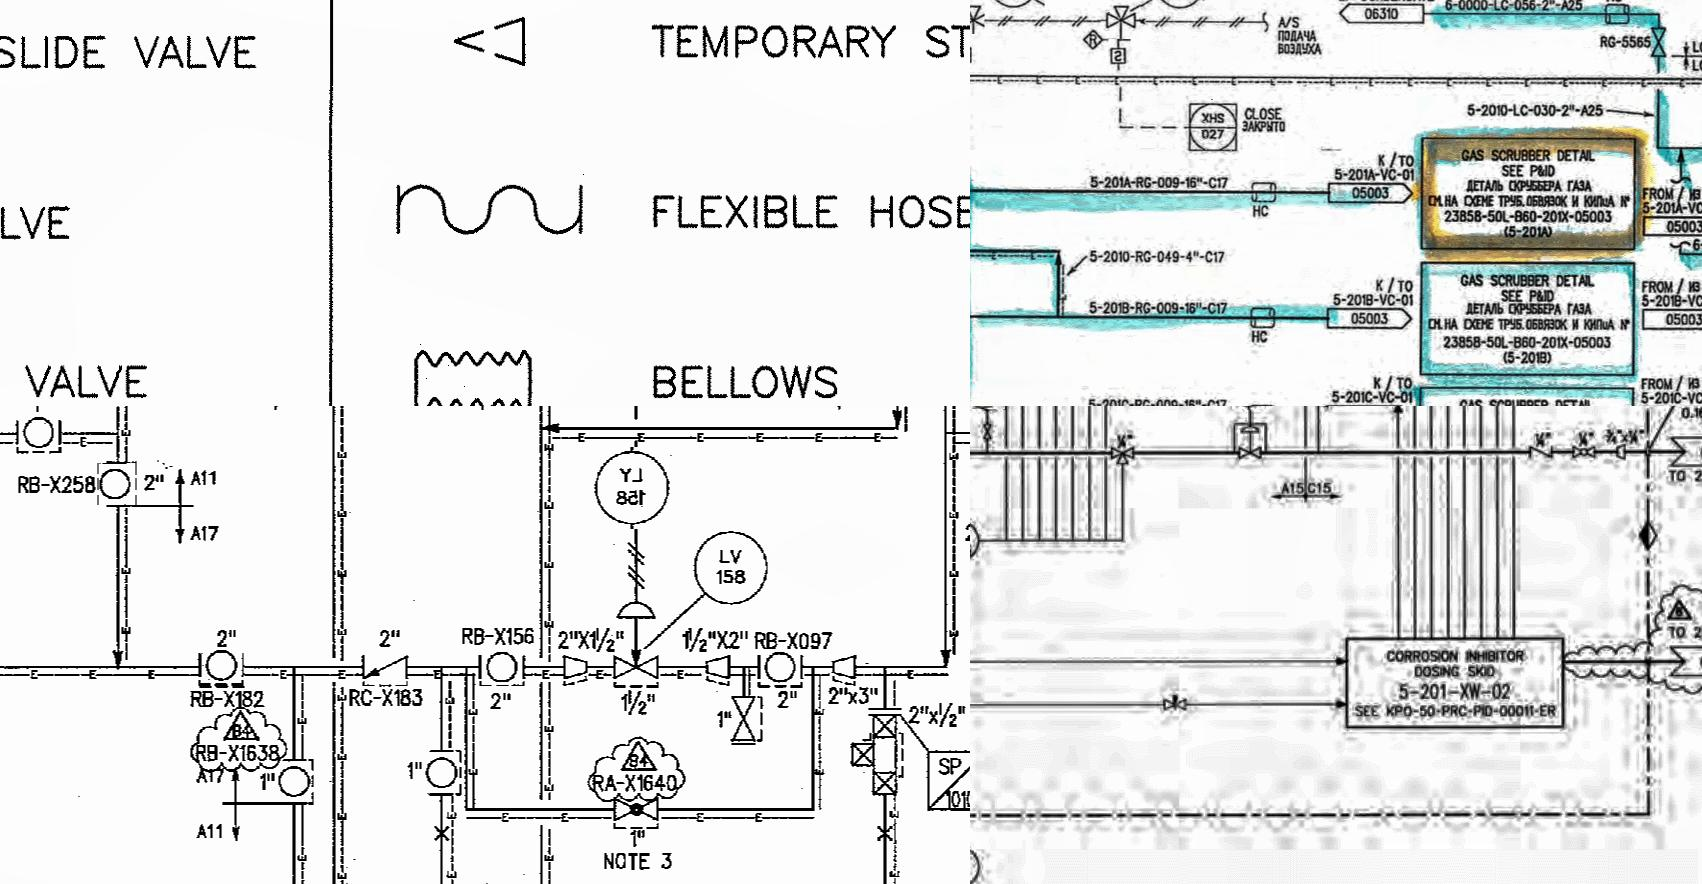2 WAY VALVE: (844, 711, 904, 802)
3 WAY GENERAL VALVE: (1100, 1, 1140, 35), (1105, 444, 1143, 470), (970, 0, 984, 34)
BELLOWS: (410, 342, 544, 407)
CONCENTRIC REDUCER: (702, 651, 737, 687), (830, 653, 861, 684), (559, 654, 591, 684), (1614, 441, 1629, 466)
DCS ACCESSIBLE: (1180, 99, 1244, 154)
DIAPHRAGM ACTUATED VALVE: (606, 600, 659, 688), (1235, 426, 1264, 464)
DUPLEX RECEPTACLE: (1598, 0, 1636, 28), (1247, 179, 1282, 208), (1247, 302, 1280, 332)
FIELD INSTRUMENT: (590, 447, 679, 529), (692, 526, 770, 610), (758, 645, 806, 689), (478, 648, 529, 689), (420, 752, 471, 794), (198, 648, 244, 687), (274, 758, 313, 803), (16, 414, 62, 450), (97, 463, 135, 504), (970, 516, 985, 564), (983, 0, 1043, 10), (1152, 0, 1204, 11), (970, 842, 984, 884)
FLEXIBLE HOSE: (389, 172, 590, 250)
GATE VALVE: (606, 786, 666, 831), (724, 696, 768, 741), (1648, 23, 1669, 62), (980, 420, 993, 441)
HARDWIRED INTERLOCK FIELD: (1078, 26, 1127, 50)
NEEDLE VALVE: (1158, 688, 1193, 718)
PIPE CONNECTION FLAG: (1664, 641, 1702, 679), (1668, 431, 1702, 470)
PLUG VALVE: (1570, 441, 1602, 463)
REVISION TRIANGLE: (622, 734, 657, 779), (220, 712, 261, 745), (1665, 597, 1693, 624)
SPECIAL PIPING ITEM: (922, 745, 970, 820)
SPEED FLOW METER: (1108, 39, 1130, 75)
TEMPORARY STRAINER: (446, 8, 535, 71)
